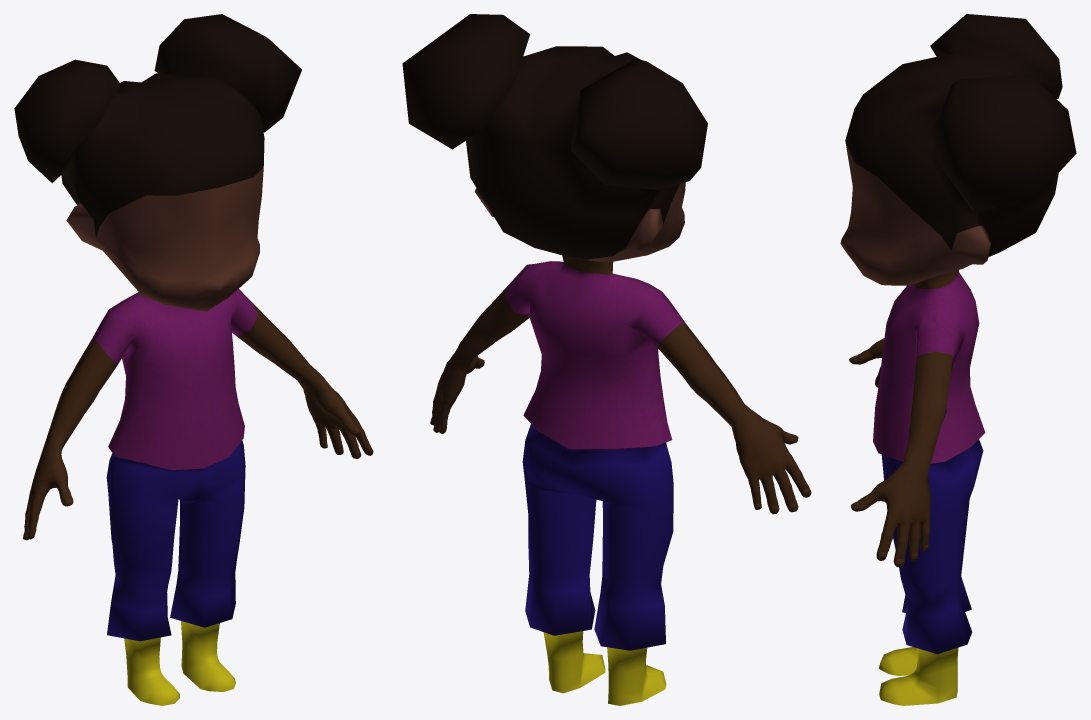
File: avatar.fbx
3 renders of one model, left to right at view 1: azimuth 30°, elevation 25°; view 2: azimuth 150°, elevation 25°; view 3: azimuth 270°, elevation 25°, orthographic. The views are drawn at different scales.
Parts seen in each view (by area): view 1: Body, Head; view 2: Body, Head; view 3: Head, Body.
Part boxes in pixels (x1=…): Body: x1=23, y1=289, x2=373, y2=705; Head: x1=14, y1=14, x2=301, y2=311; Body: x1=430, y1=255, x2=811, y2=705; Head: x1=402, y1=14, x2=707, y2=262; Head: x1=840, y1=14, x2=1076, y2=285; Body: x1=849, y1=270, x2=985, y2=705.
Bounding box in the file's own units: 1793 × 3046 × 1018.
